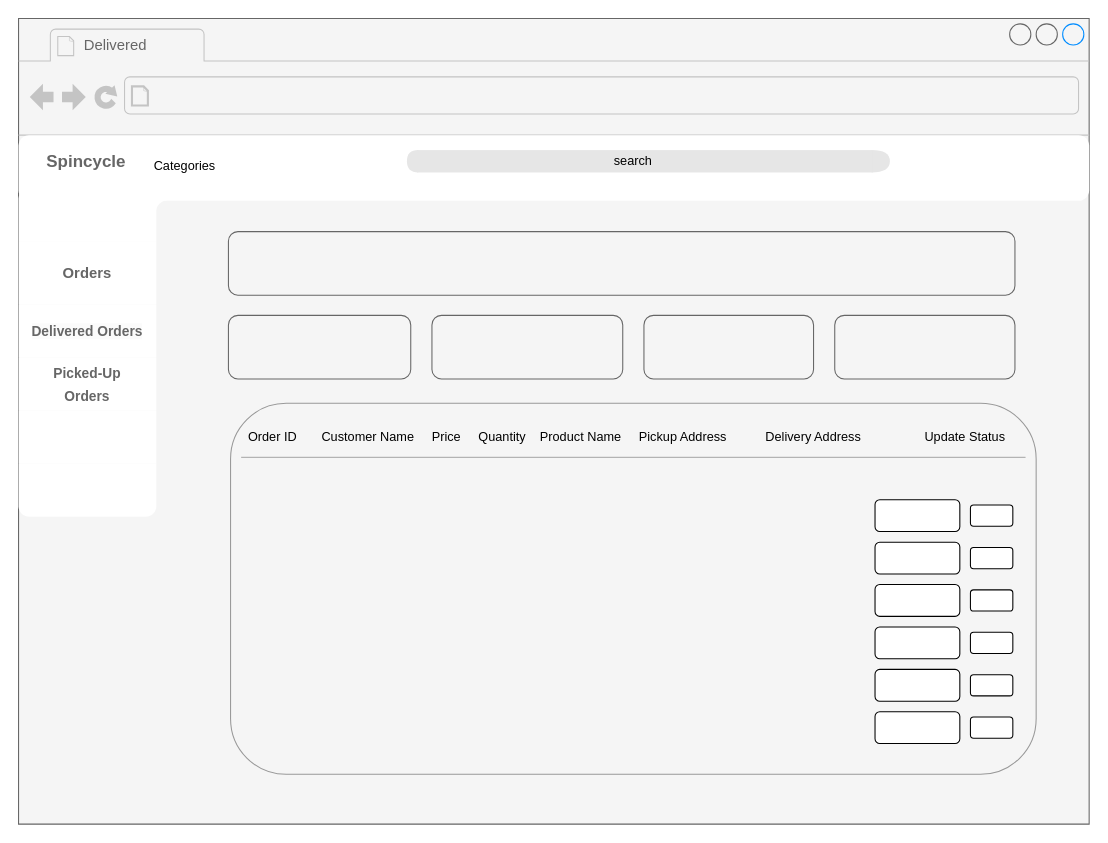
The diagram is 1108 pixels wide and 843 high, and some of its shapes have lost their labels. Here are the shapes that lost their labels. From the top down, the centre of each, then its label:
At point 288,95: "http://localhost/staff/deliveredorders.php".
At point 87,214: "Manage Profile".
At point 87,489: "Logout".
